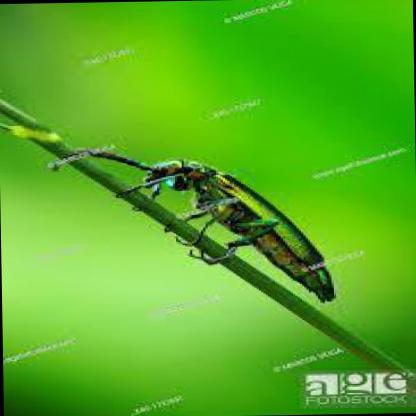blister beetle: (85, 148, 338, 303)
